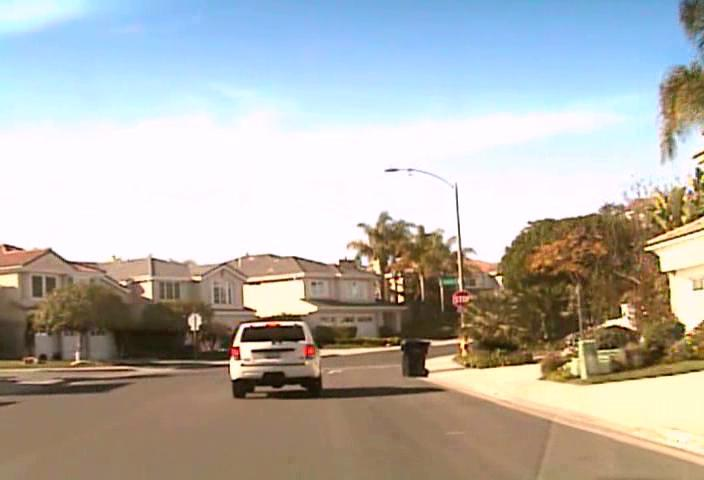stop: (451, 288, 473, 309)
